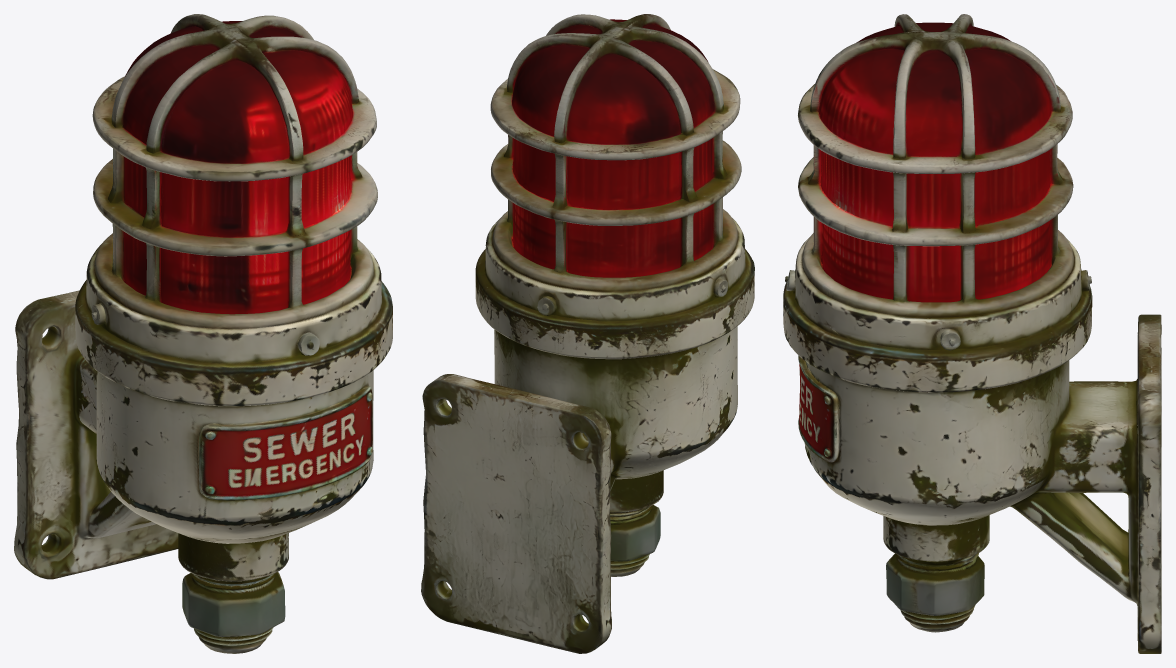
File: lod_basic_pbr.fbx
3 views of the same model, side by side, from view 1: azimuth 30°, elevation 25°; view 2: azimuth 150°, elevation 25°; view 3: azimuth 270°, elevation 25° (orthographic). The views are drawn at different scales.
Visible parts, largest first — view 1: model_LOD0; view 2: model_LOD0; view 3: model_LOD0.
Part boxes in pixels (x1,y1,x2,y2): model_LOD0: [14, 14, 392, 653]; model_LOD0: [421, 14, 754, 653]; model_LOD0: [783, 14, 1161, 653].
Size of what is drawn, in the model's own units: 85.67 by 182 by 106.
Materials: 1 (1 with a texture image).
